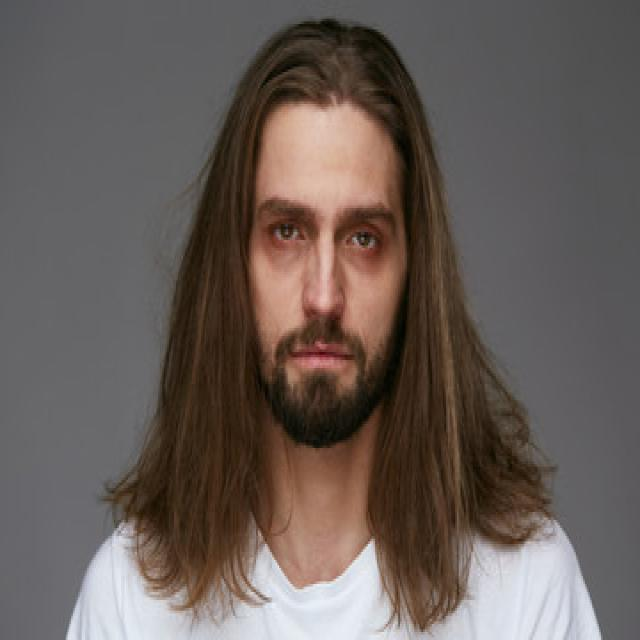Eyebags: (270, 244, 306, 271), (347, 251, 378, 277)
